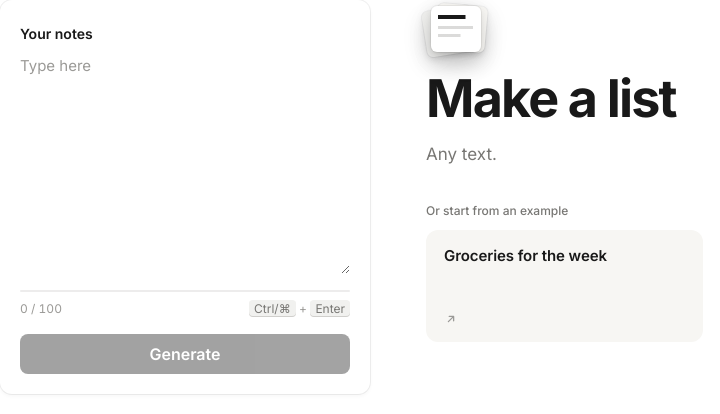
it: Welcome › fills the input from an example without sending anything
Expected: the heading "Make a list" is shown, [426,72,676,127]
Click the button "Groceries for the week". click: {"x": 525, "y": 255}
box: [426,230,703,342]
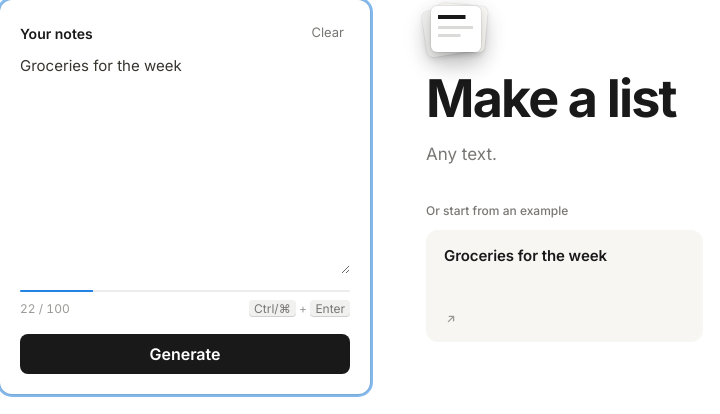
Expected: the text box holds "Groceries for the week", [20,54,350,274]
Click the button "Clear". click: {"x": 328, "y": 33}
box: [306,21,350,45]
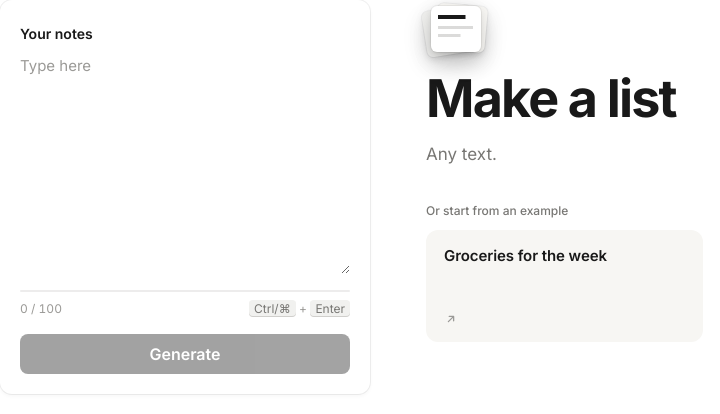
Expected: the text box is empty, [20,54,350,274]
